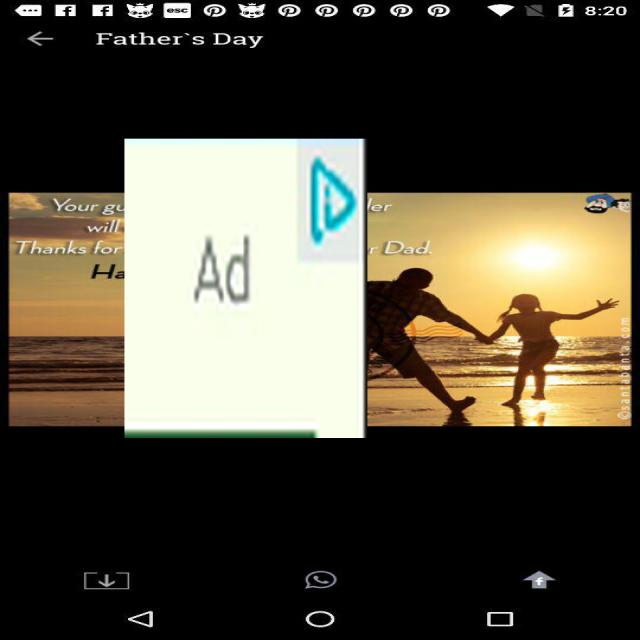sneaking: (125, 139, 368, 438)
